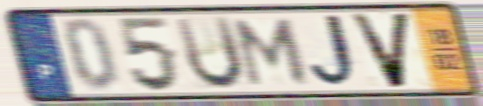0: (62, 16, 122, 94)
5: (112, 15, 185, 94)
J: (307, 12, 366, 91)
M: (232, 17, 312, 89)
U: (171, 13, 247, 93)
V: (346, 11, 416, 91)
